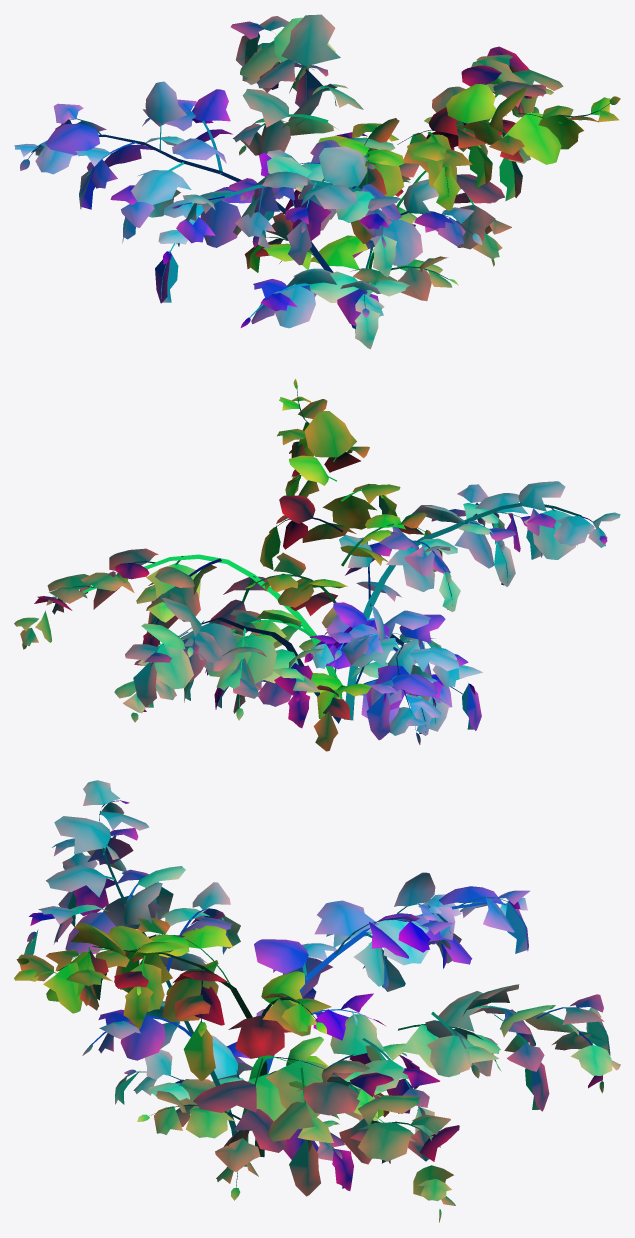
File: Raspberry_wf0oefeja_High_wf0oefeja_VarD_LOD2.fbx
3 renders of one model, top to bottom at view 1: azimuth 30°, elevation 25°; view 2: azimuth 150°, elevation 25°; view 3: azimuth 270°, elevation 25°, orthographic. The views are drawn at different scales.
Parts seen in each view (by area): view 1: _mbku_VarD_LOD3; view 2: _mbku_VarD_LOD3; view 3: _mbku_VarD_LOD3.
Part boxes in pixels (x1=…): _mbku_VarD_LOD3: x1=14, y1=14, x2=620, y2=349; _mbku_VarD_LOD3: x1=14, y1=379, x2=620, y2=751; _mbku_VarD_LOD3: x1=14, y1=780, x2=620, y2=1222.
Size of the model in its own units: 138 by 68.14 by 127.
